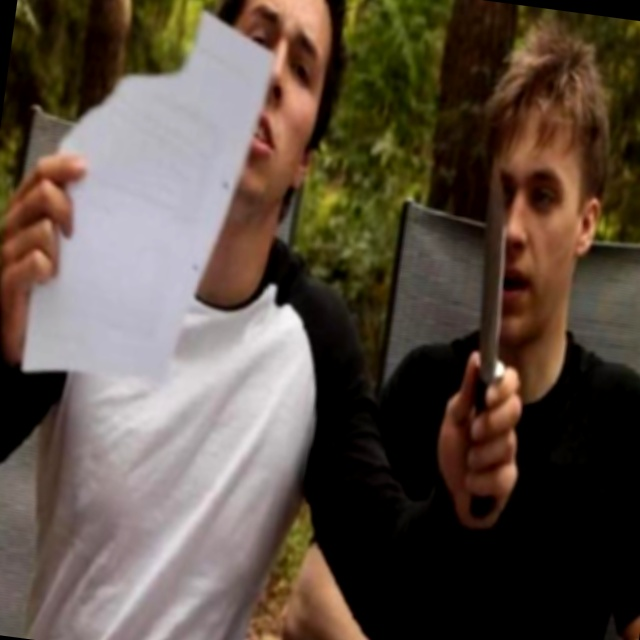Sharp-Object: (464, 224, 530, 521)
